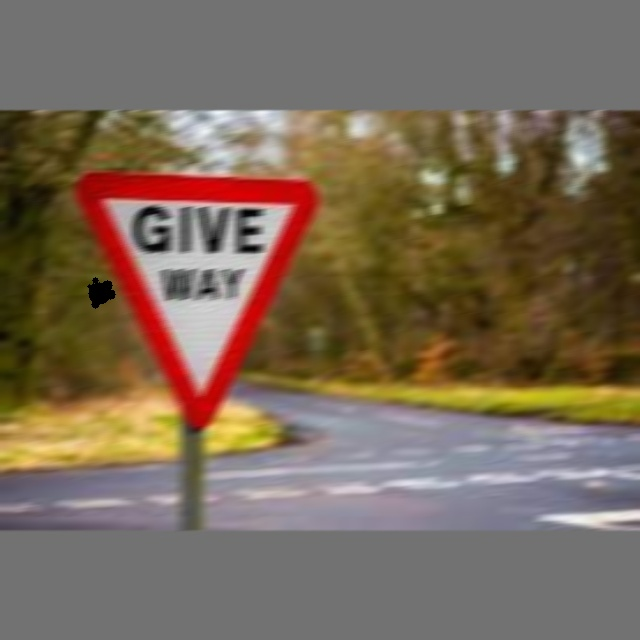Give_Way: (83, 178, 310, 417)
